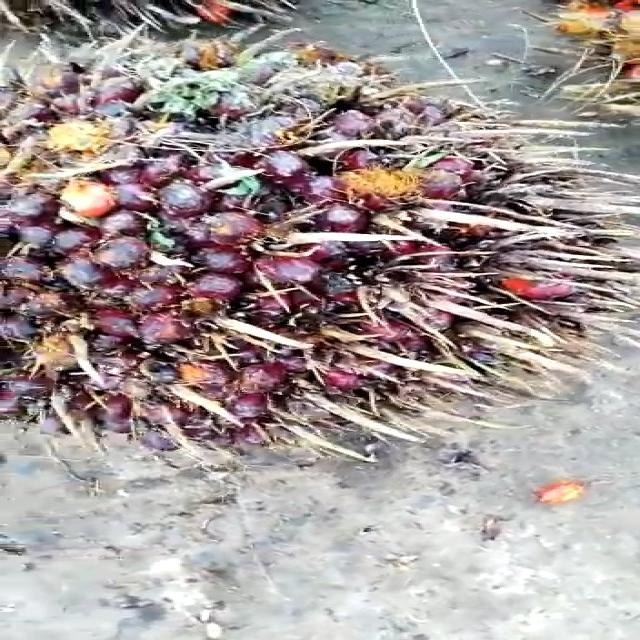palm oil: (0, 37, 640, 464)
